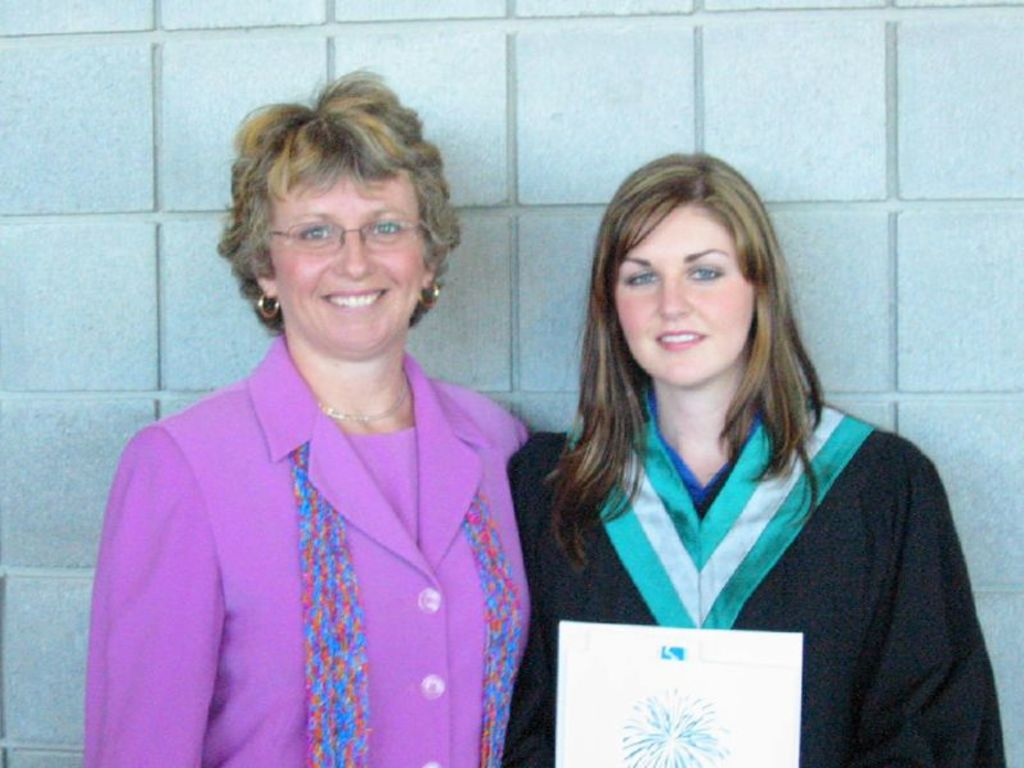Person: (84, 70, 531, 768)
